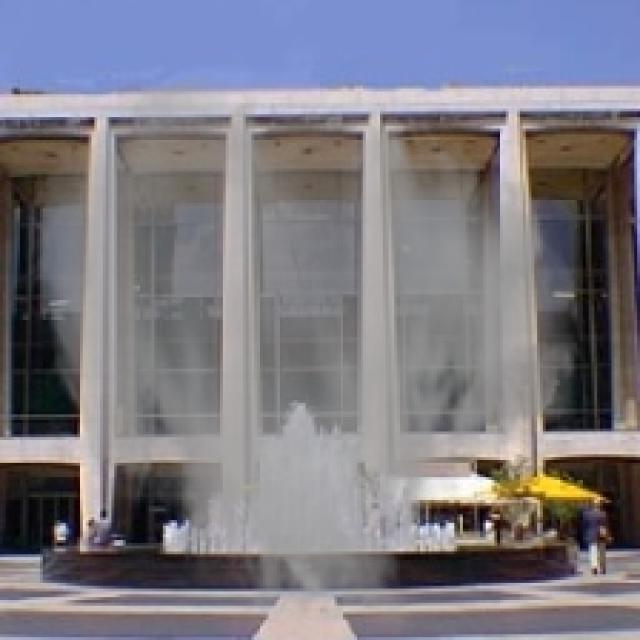smoke: (23, 72, 588, 637)
